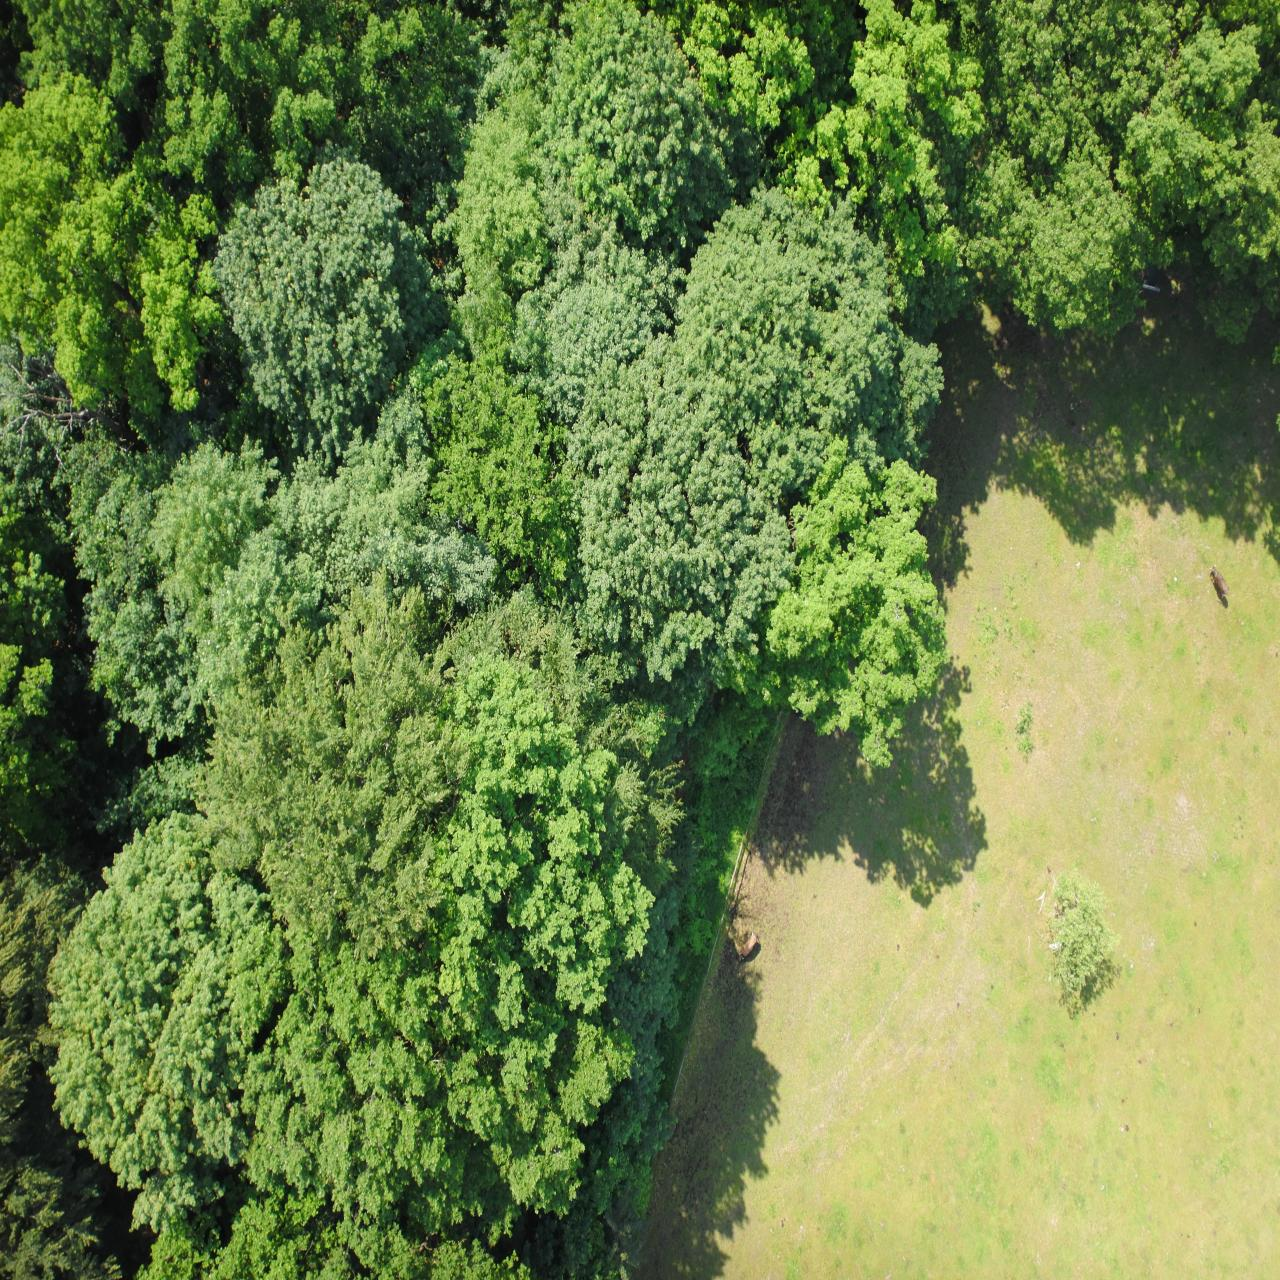cow: (50, 682, 69, 714)
